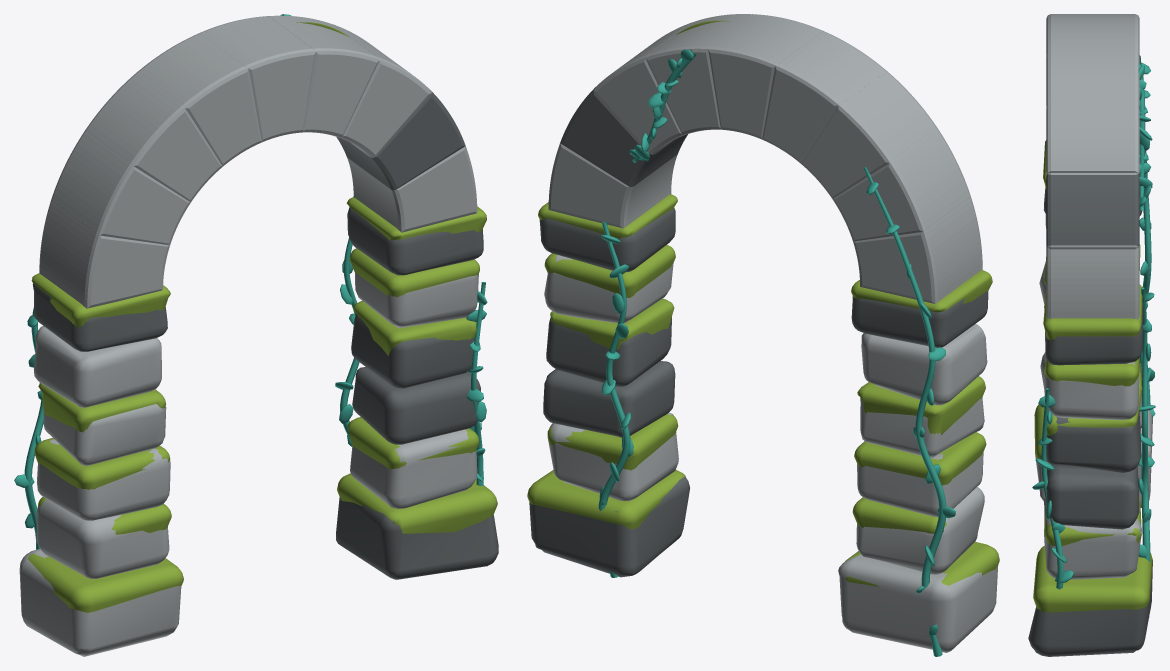
Rendered from GROVE_RUIN_ARCH.glb.
The picture shows the model from 3 angles, left to right: view 1: azimuth 30°, elevation 25°; view 2: azimuth 150°, elevation 25°; view 3: azimuth 270°, elevation 25°; orthographic projection. The views are drawn at different scales.
Visible parts, largest first — view 1: stones, stones_dark, moss, vines; view 2: stones, stones_dark, moss, vines; view 3: stones, stones_dark, moss, vines.
Boxes of the visible parts, x1,y1,x2,y2 form: stones: (19,15,478,656); stones_dark: (32,90,498,579); moss: (28,22,497,612); vines: (14,14,487,549); stones: (544,14,998,652); stones_dark: (529,87,988,577); moss: (527,20,999,586); vines: (598,49,955,656); stones: (1035,14,1152,579); stones_dark: (1028,171,1152,656); moss: (1033,140,1152,612); vines: (1032,55,1155,617).
Bounding box in the file's own units: 14.66 × 18 × 3.93.
